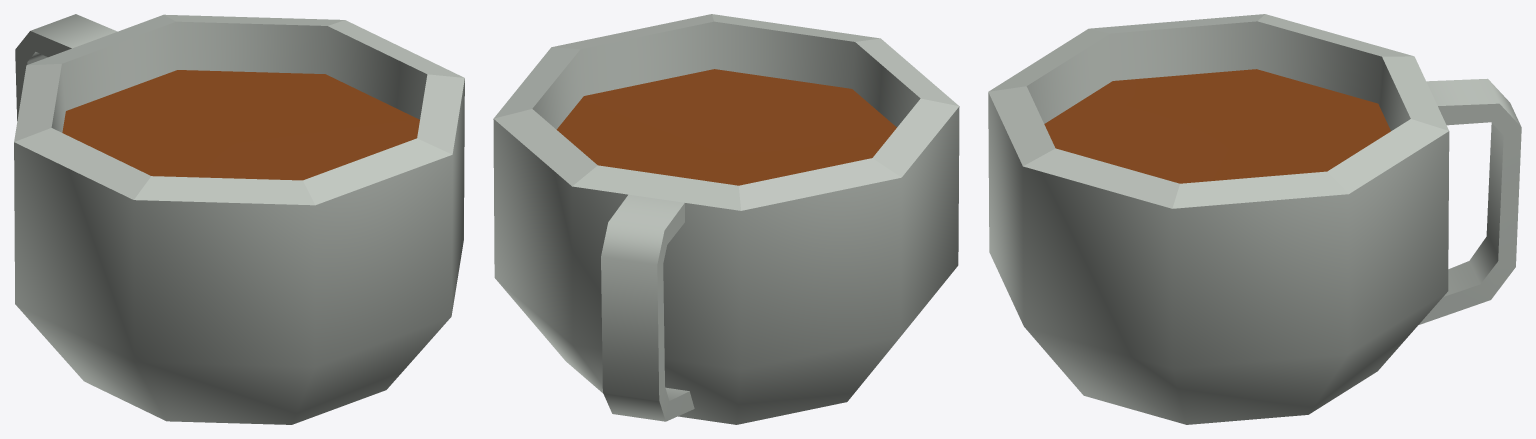
File: Mug_2_A.glb
The picture shows the model from 3 angles, left to right: view 1: azimuth 30°, elevation 25°; view 2: azimuth 150°, elevation 25°; view 3: azimuth 270°, elevation 25°; orthographic projection.
Parts seen in each view (by area): view 1: Mug_2_A; view 2: Mug_2_A; view 3: Mug_2_A.
Boxes of the visible parts, bbox=[...] form: Mug_2_A: bbox=[14, 14, 464, 424]; Mug_2_A: bbox=[493, 14, 959, 424]; Mug_2_A: bbox=[988, 14, 1521, 424].
Size of the model in its own units: 0.1483 by 0.0906 by 0.1716.
1 material, 1 textured.
